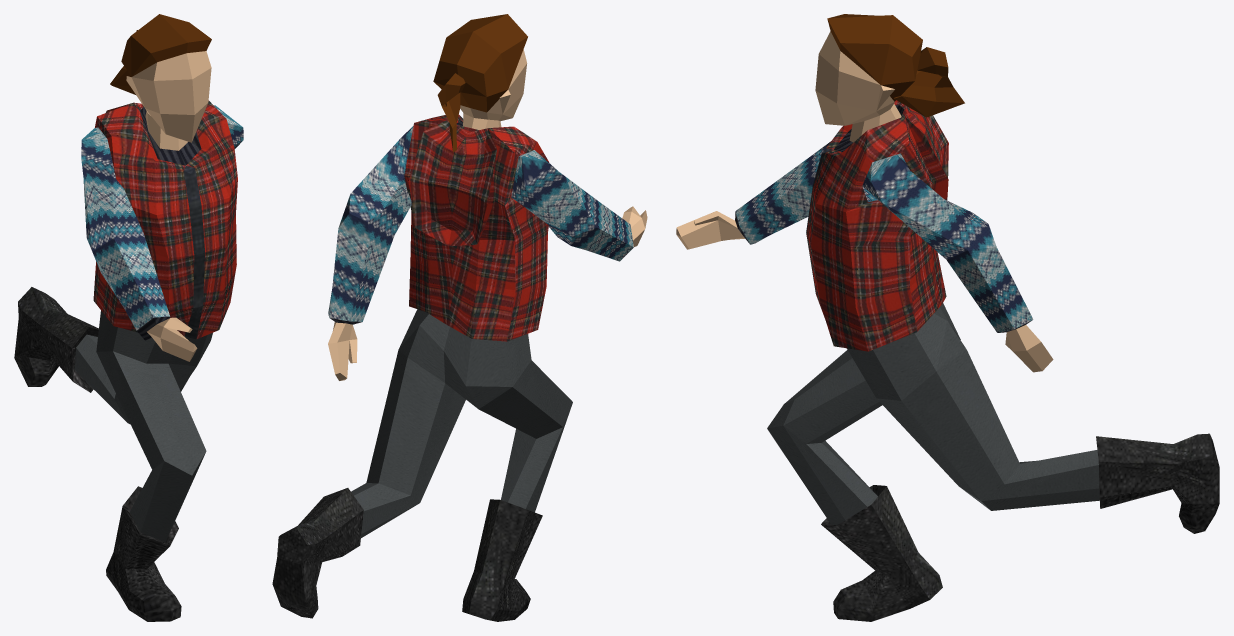
Rendered from AutumnGirl.008.glb.
3 views of the same model, side by side, from view 1: azimuth 30°, elevation 25°; view 2: azimuth 150°, elevation 25°; view 3: azimuth 270°, elevation 25° (orthographic). The views are drawn at different scales.
Parts seen in each view (by area): view 1: AutumnGirl.008; view 2: AutumnGirl.008; view 3: AutumnGirl.008.
Part boxes in pixels (<box>): AutumnGirl.008: <box>14,14,243,621</box>; AutumnGirl.008: <box>272,14,647,621</box>; AutumnGirl.008: <box>676,14,1219,621</box>.
Bounding box in the file's own units: 0.526 × 1.56 × 1.26.
Materials: 1 (1 with a texture image).
